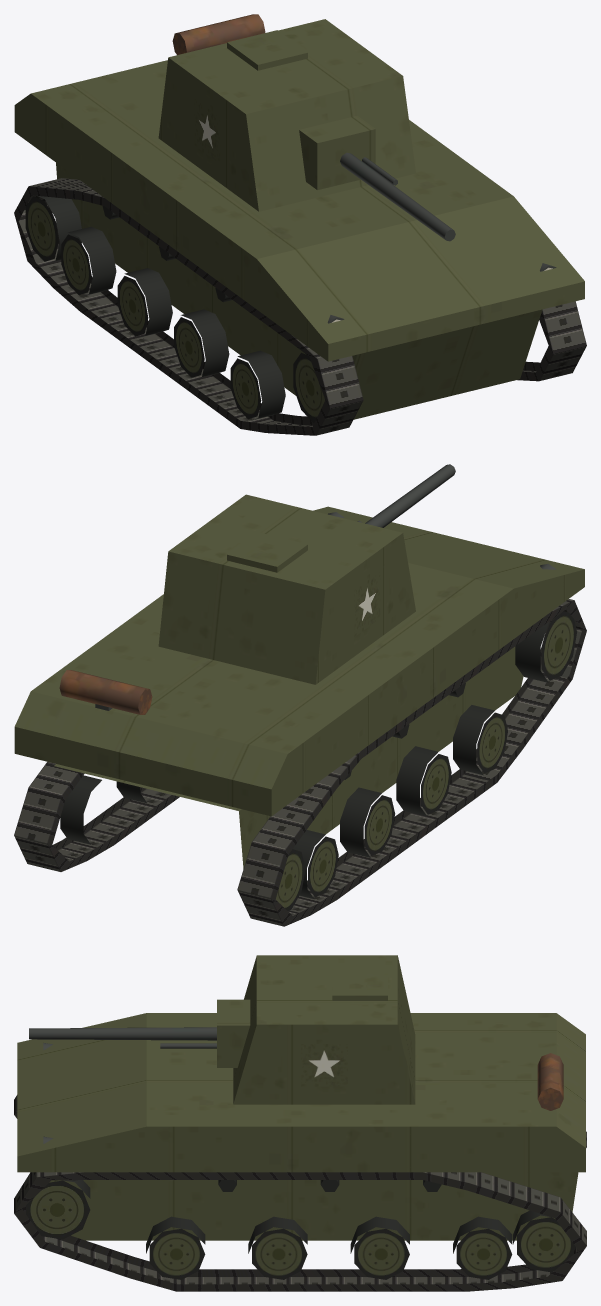
Rendered from armor-1.glb.
3 renders of one model, top to bottom at view 1: azimuth 30°, elevation 25°; view 2: azimuth 150°, elevation 25°; view 3: azimuth 270°, elevation 25°, orthographic. The views are drawn at different scales.
Visible parts, largest first — view 1: hull, turret, tracks_right, gun, tracks_left, galet_right_2, galet_right_4, galet_right_1, galet_right_3, roue_folle_right, hatch, barbotin_right; view 2: hull, turret, tracks_right, tracks_left, galet_right_2, galet_right_4, galet_right_3, barbotin_right, galet_right_1, hatch, galet_left_1, gun (+1 smaller); view 3: hull, turret, tracks_left, gun, barbotin_left, galet_left_4, galet_left_1, galet_left_2, galet_left_3, roue_folle_left, hatch.
Boxes of the visible parts, <box> form: hull: <box>14,14,584,419</box>; turret: <box>158,19,415,211</box>; tracks_right: <box>14,178,363,435</box>; gun: <box>299,115,455,241</box>; tracks_left: <box>517,301,586,381</box>; galet_right_2: <box>117,268,172,337</box>; galet_right_4: <box>230,350,285,420</box>; galet_right_1: <box>61,226,116,296</box>; galet_right_3: <box>174,309,229,379</box>; roue_folle_right: <box>25,195,81,263</box>; hatch: <box>227,30,307,70</box>; barbotin_right: <box>293,352,325,422</box>; hull: <box>14,506,584,868</box>; turret: <box>158,494,415,684</box>; tracks_right: <box>237,599,586,926</box>; tracks_left: <box>14,762,179,871</box>; galet_right_2: <box>340,787,395,857</box>; galet_right_4: <box>453,705,507,775</box>; galet_right_3: <box>396,746,451,816</box>; barbotin_right: <box>515,611,576,682</box>; galet_right_1: <box>293,830,338,898</box>; hatch: <box>227,532,307,572</box>; galet_left_1: <box>60,775,101,844</box>; gun: <box>357,464,455,527</box>; hull: <box>17,1013,585,1240</box>; turret: <box>233,955,415,1104</box>; tracks_left: <box>14,1172,586,1291</box>; gun: <box>29,999,250,1067</box>; barbotin_left: <box>26,1180,90,1239</box>; galet_left_4: <box>146,1216,205,1279</box>; galet_left_1: <box>453,1216,512,1279</box>; galet_left_2: <box>350,1216,409,1279</box>; galet_left_3: <box>248,1216,307,1279</box>; roue_folle_left: <box>513,1210,575,1272</box>; hatch: <box>332,973,387,1000</box>.
Bounding box in the file's own units: 2.29 × 2.35 × 4.88.
5 materials, 5 textured.
